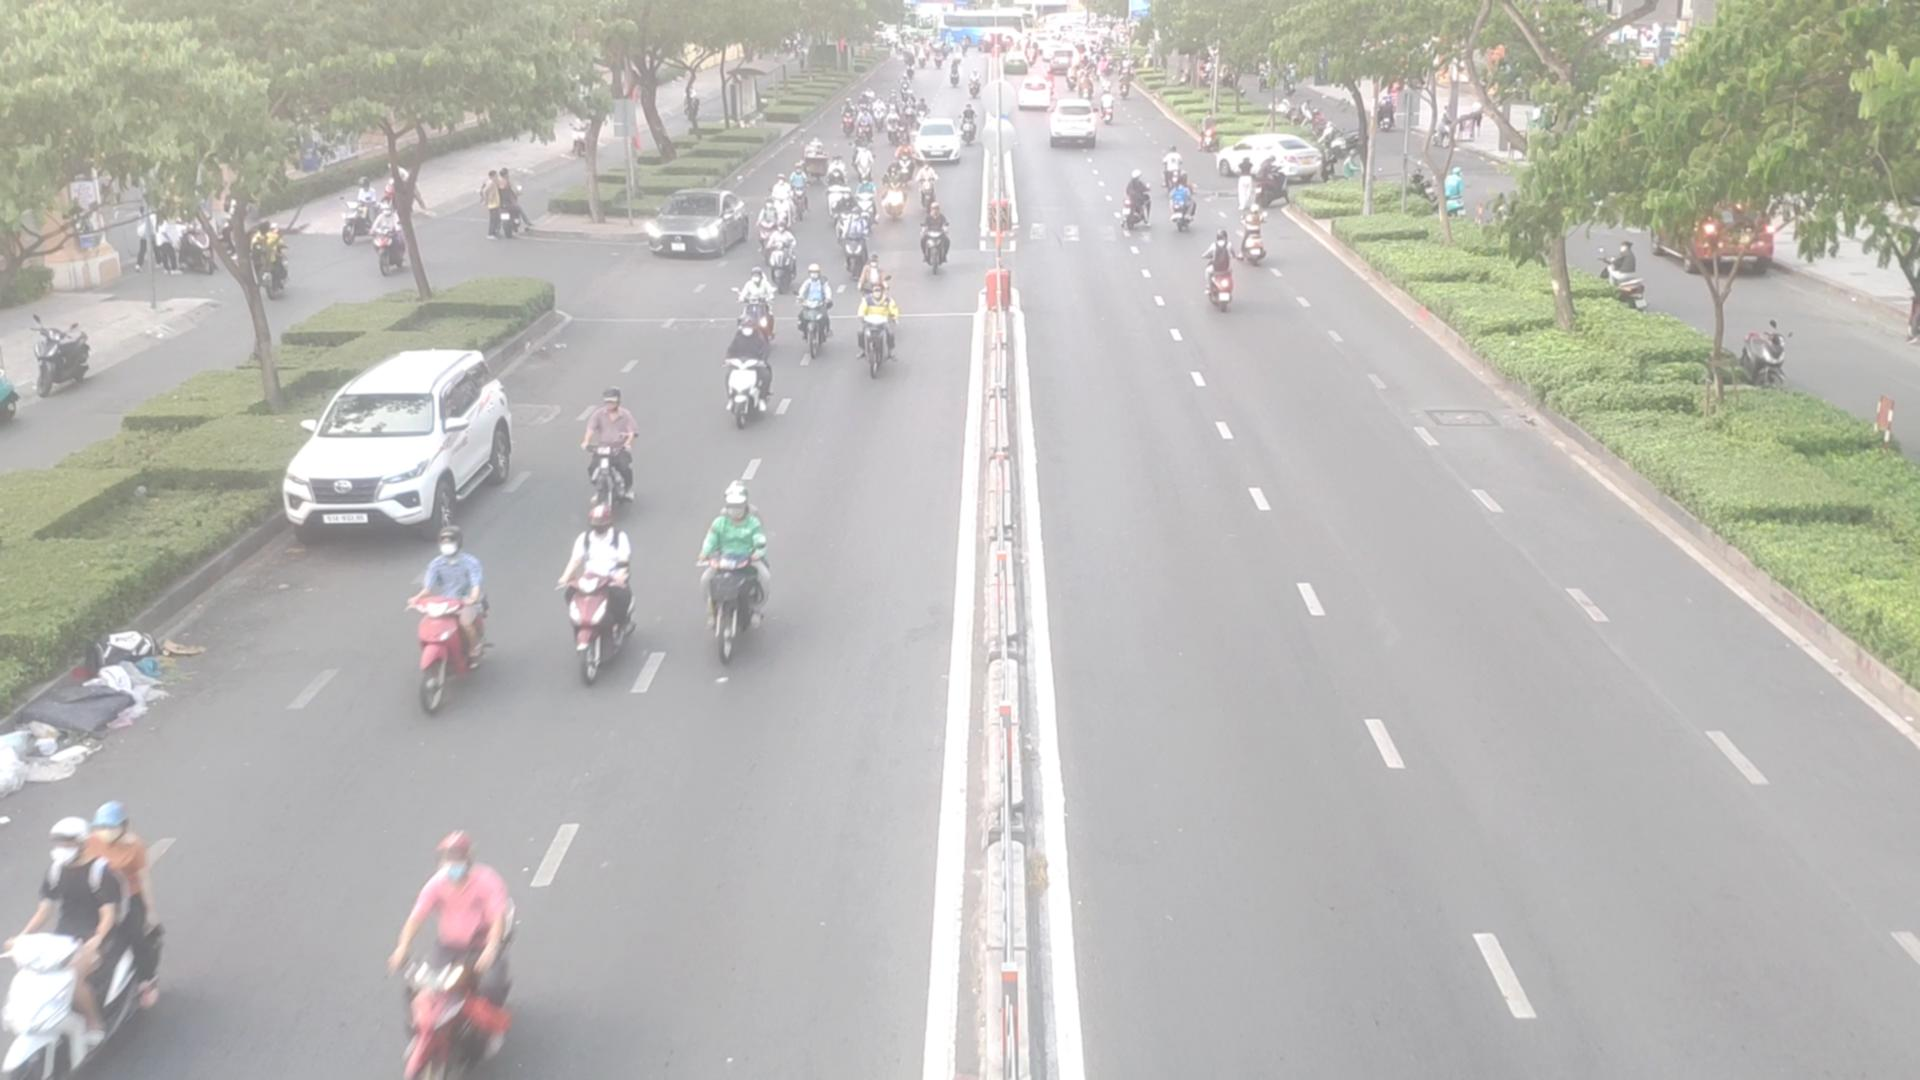car: (284, 352, 521, 543), (644, 191, 754, 260), (1222, 132, 1327, 181), (916, 117, 969, 164)
motorbike: (0, 785, 177, 1063), (392, 833, 525, 1080), (396, 520, 487, 709), (694, 473, 762, 661), (574, 386, 647, 522), (568, 516, 636, 665), (716, 324, 777, 423), (793, 266, 829, 352), (860, 289, 895, 372), (1200, 229, 1236, 311), (738, 277, 769, 342), (1120, 170, 1153, 227), (853, 256, 885, 313), (1166, 179, 1197, 233), (770, 224, 793, 280), (924, 207, 945, 265), (848, 212, 866, 272), (1162, 148, 1185, 193), (793, 169, 814, 218), (757, 200, 777, 248), (771, 175, 791, 219), (916, 166, 936, 208), (858, 178, 876, 225), (855, 145, 876, 183), (887, 167, 903, 218), (891, 141, 911, 181), (825, 171, 840, 208)
